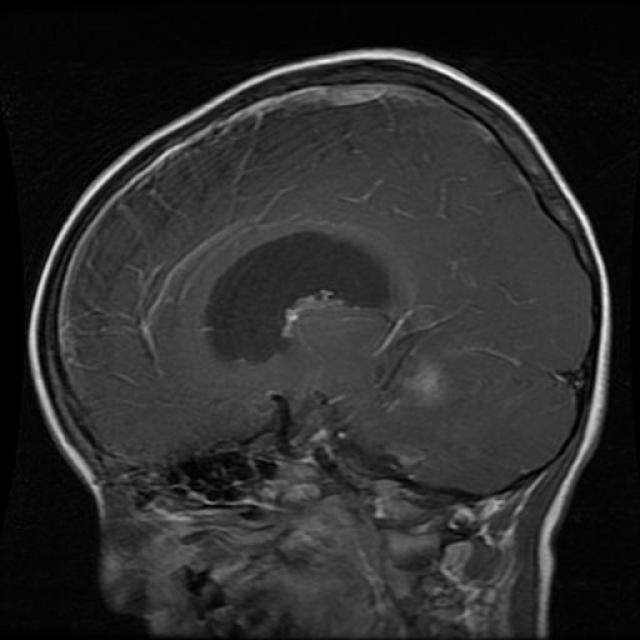glioma: (210, 232, 388, 361)
